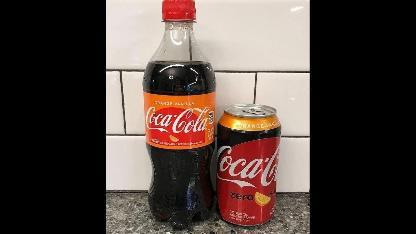Can: (216, 103, 282, 227)
Plastic Bottle: (142, 0, 218, 230)
